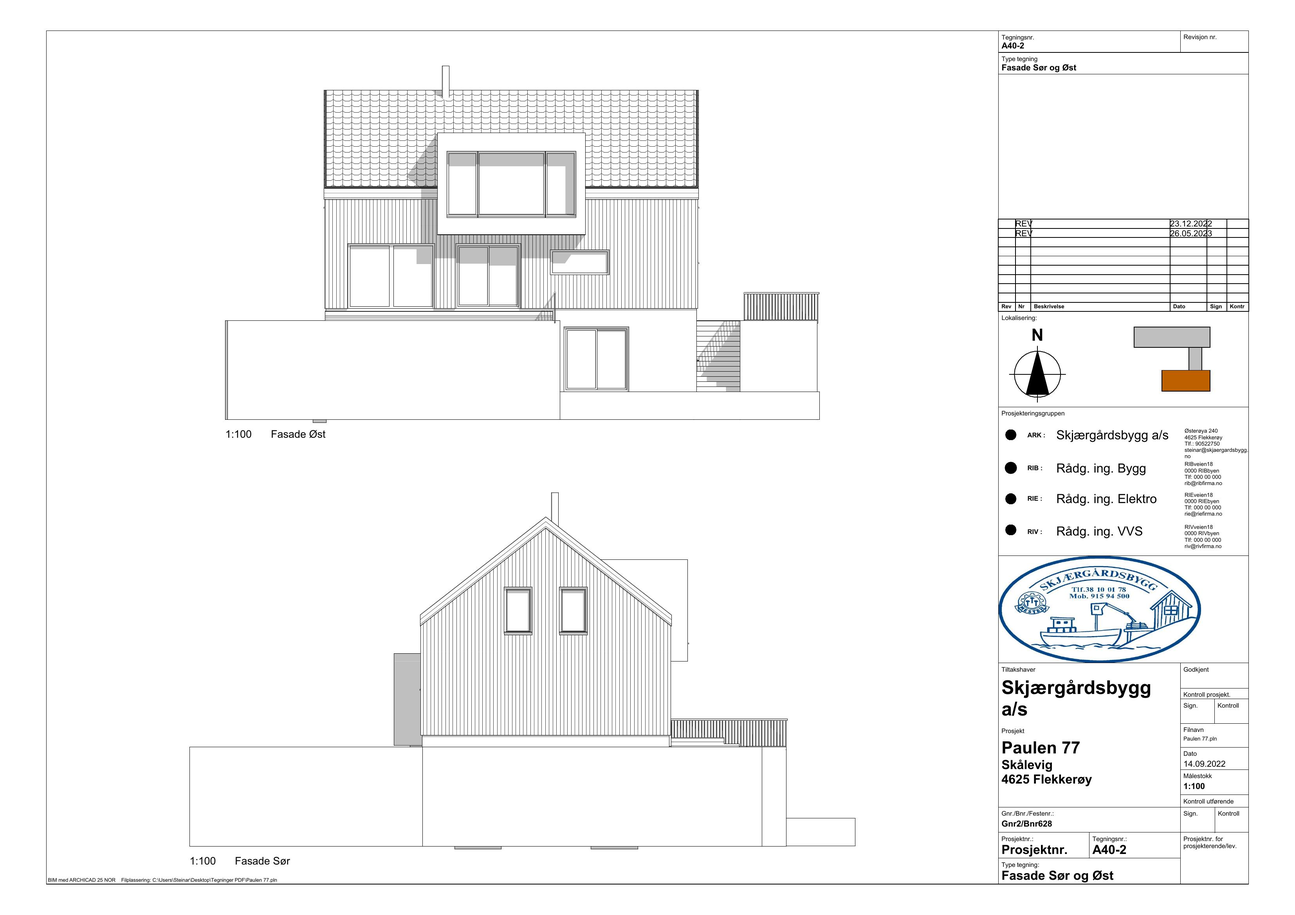fasade: (298, 58, 828, 418), (379, 480, 706, 754)
tekst: (185, 853, 297, 868), (218, 426, 332, 440), (1001, 870, 1115, 884), (1000, 62, 1082, 74), (1182, 780, 1207, 793)
